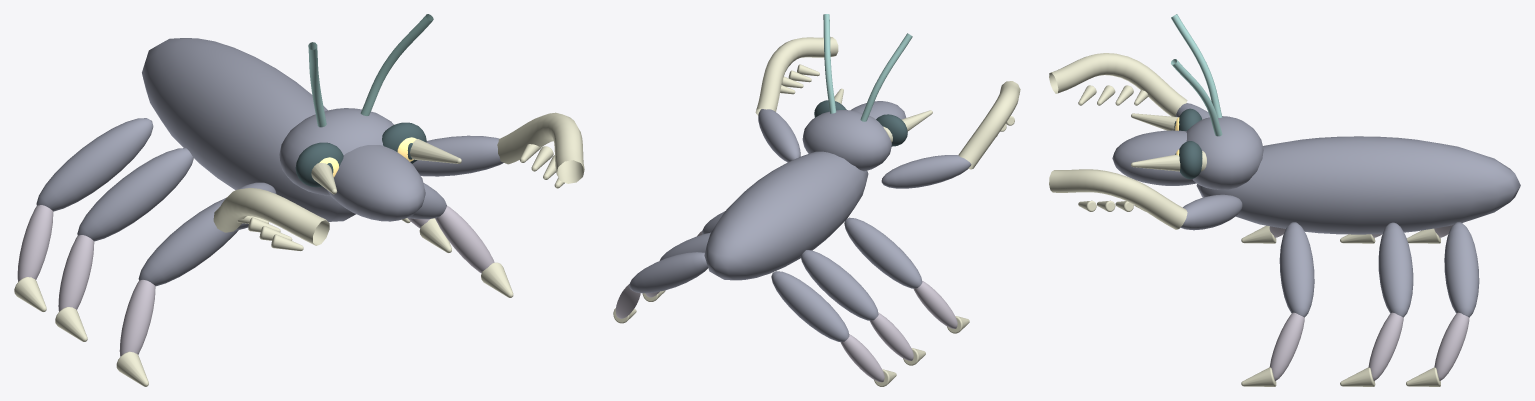
File: bio_mantid_25_near.glb
3 renders of one model, left to right at view 1: azimuth 30°, elevation 25°; view 2: azimuth 150°, elevation 25°; view 3: azimuth 270°, elevation 25°, orthographic. The views are drawn at different scales.
Visible parts, largest first — view 1: Articulated abdomen, Cranium, Upper leg.004, Upper leg.002, Swept scythe, Swept scythe.001, Upper leg, Raptorial arm.001, Protected orbit, Antenna, Lower leg.002, Lower leg.004 (+9 smaller); view 2: Articulated abdomen, Cranium, Swept scythe.001, Upper leg.004, Upper leg, Upper leg.002, Upper leg.005, Raptorial arm, Swept scythe, Antenna, Raptorial arm.001, Lower leg (+6 smaller); view 3: Articulated abdomen, Cranium, Swept scythe, Swept scythe.001, Upper leg.001, Upper leg.003, Upper leg.005, Raptorial arm.001, Antenna, Lower leg.003, Lower leg.005, Lower leg.001 (+6 smaller).
Part boxes in pixels (x1,y1,x2,y2): Articulated abdomen: [142, 38, 355, 221]; Cranium: [279, 108, 425, 221]; Upper leg.004: [36, 118, 153, 211]; Upper leg.002: [77, 148, 193, 241]; Swept scythe: [213, 188, 329, 251]; Swept scythe.001: [497, 112, 584, 188]; Upper leg: [138, 197, 238, 286]; Raptorial arm.001: [412, 135, 503, 176]; Protected orbit: [295, 122, 426, 187]; Antenna: [308, 14, 433, 127]; Lower leg.002: [58, 235, 94, 311]; Lower leg.004: [17, 205, 53, 281]; Articulated abdomen: [704, 151, 868, 280]; Cranium: [802, 101, 906, 171]; Swept scythe.001: [755, 37, 838, 115]; Upper leg.004: [771, 271, 849, 341]; Upper leg: [844, 217, 922, 288]; Upper leg.002: [800, 250, 878, 320]; Upper leg.005: [629, 252, 708, 293]; Raptorial arm: [881, 155, 971, 188]; Swept scythe: [958, 81, 1020, 169]; Antenna: [823, 14, 912, 121]; Raptorial arm.001: [758, 109, 800, 162]; Lower leg: [913, 280, 957, 328]; Articulated abdomen: [1196, 136, 1520, 234]; Cranium: [1112, 116, 1263, 189]; Swept scythe: [1049, 53, 1187, 116]; Swept scythe.001: [1049, 169, 1187, 229]; Upper leg.001: [1279, 222, 1314, 317]; Upper leg.003: [1378, 222, 1413, 317]; Upper leg.005: [1444, 222, 1479, 317]; Raptorial arm.001: [1180, 194, 1242, 230]; Antenna: [1171, 14, 1222, 136]; Lower leg.003: [1368, 312, 1403, 380]; Lower leg.005: [1434, 312, 1469, 380]; Lower leg.001: [1269, 312, 1304, 380].
Bounding box in the file's own units: 2.51 × 2.14 × 3.3.
